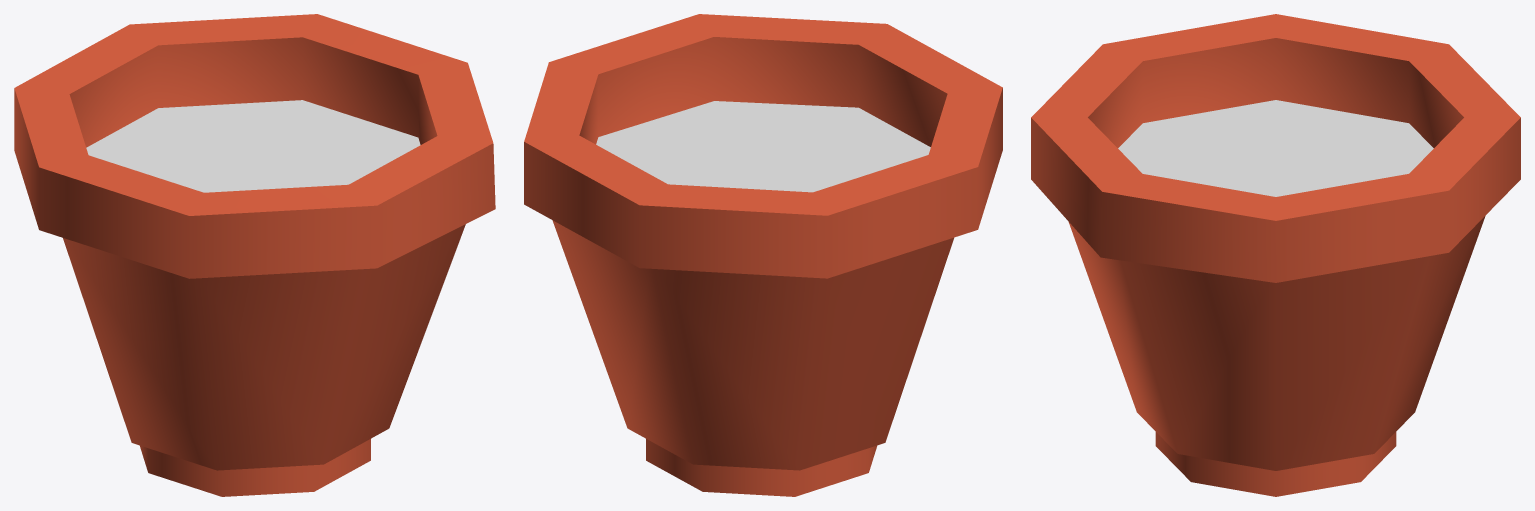
File: 植木鉢.fbx
The picture shows the model from 3 angles, left to right: view 1: azimuth 30°, elevation 25°; view 2: azimuth 150°, elevation 25°; view 3: azimuth 270°, elevation 25°; orthographic projection.
Parts seen in each view (by area): view 1: uekibati, tuti; view 2: uekibati, tuti; view 3: uekibati, tuti.
Part boxes in pixels (<box>): uekibati: <box>14,14,495,496</box>; tuti: <box>86,100,420,192</box>; uekibati: <box>524,14,1002,496</box>; tuti: <box>596,101,930,192</box>; uekibati: <box>1031,14,1520,496</box>; tuti: <box>1118,100,1433,196</box>.
Bounding box in the file's own units: 57.2 × 42.67 × 57.2.
